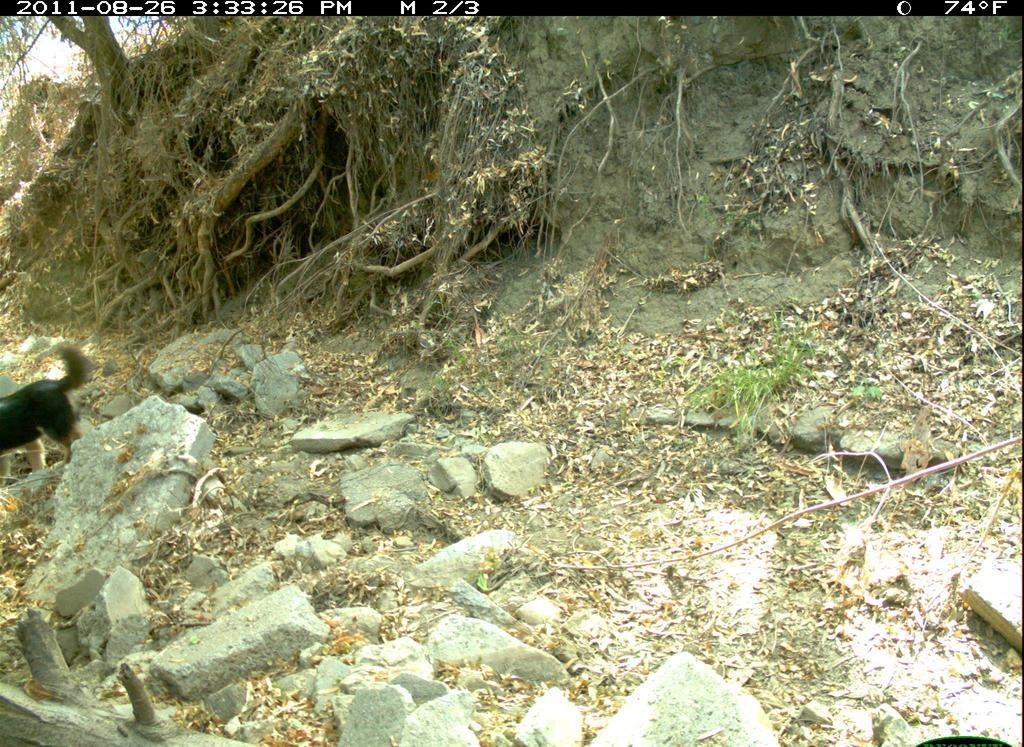dog: (4, 316, 97, 482)
